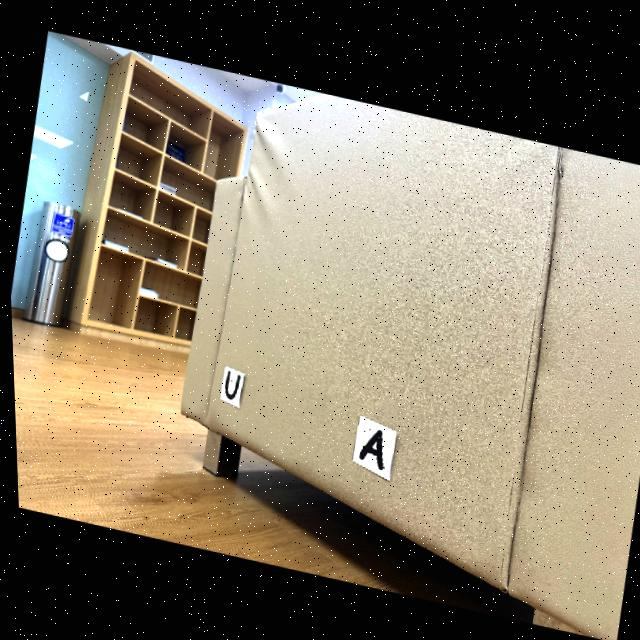A: (356, 426, 380, 466)
U: (221, 369, 237, 397)
